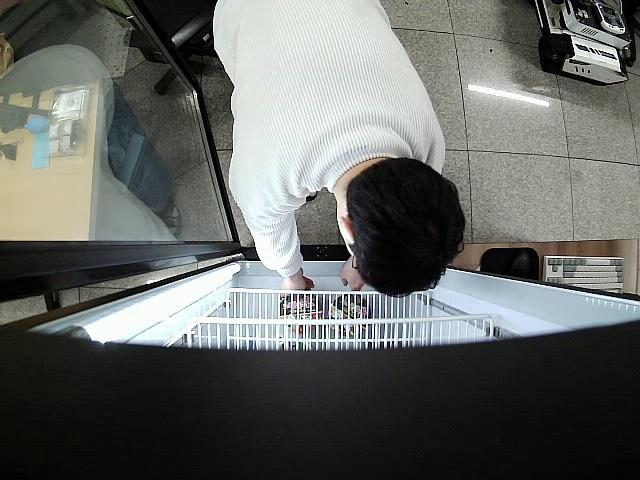07_buldak_L: (276, 294, 326, 338)
